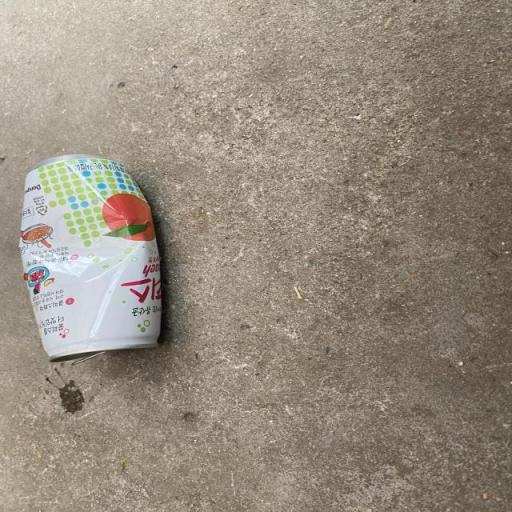metal: (5, 150, 198, 374)
